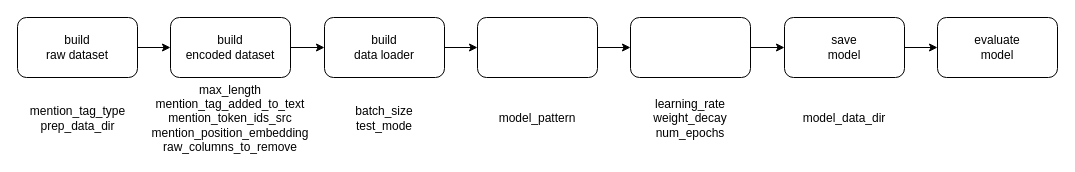
The diagram is 1075 pixels wide and 172 high, and some of its shapes have lost their labels. Each missing label, with the centre of its shape:
"build model" goes at point (537, 47).
"train model" goes at point (690, 47).
